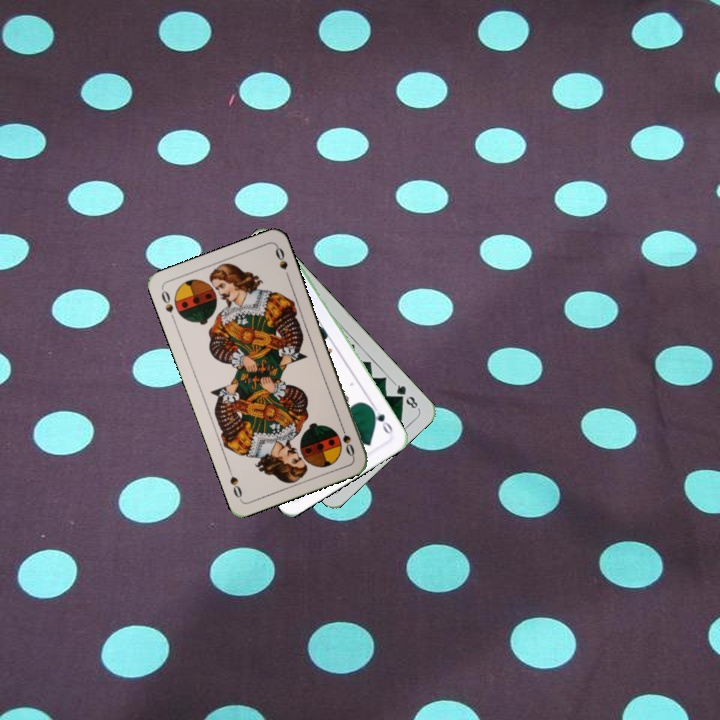G8: (390, 379, 421, 412)
GO: (366, 401, 395, 437)
SO: (336, 420, 357, 460), (157, 286, 178, 325)
